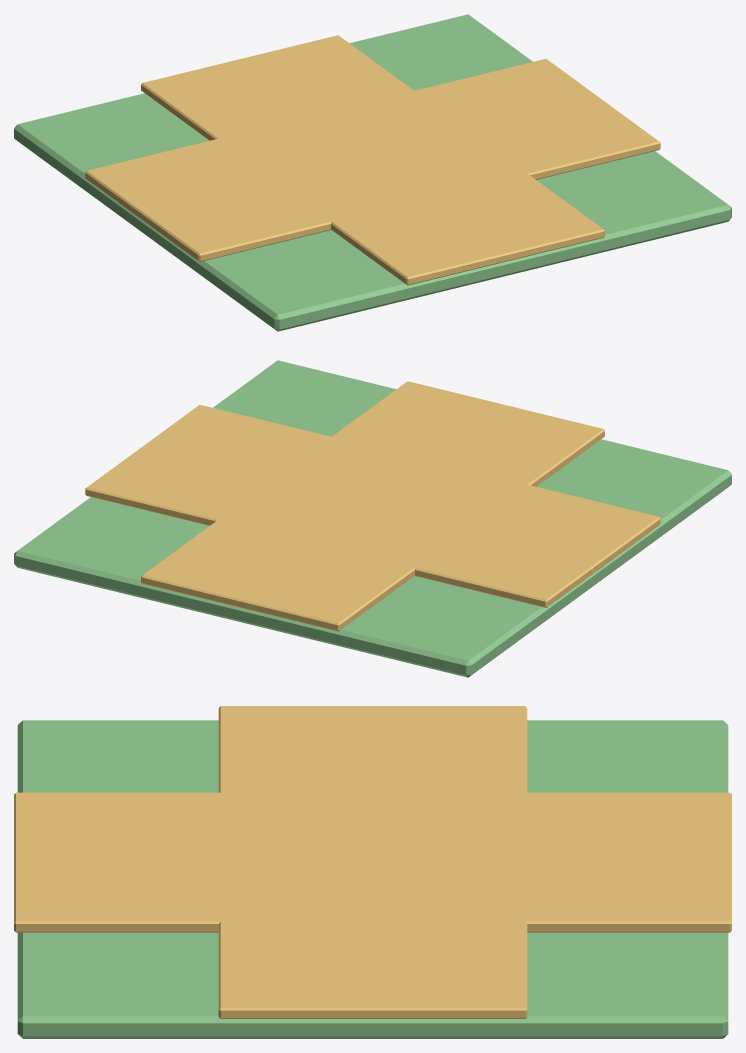
The model's file is ROAD_DIRT_1x1_CROSS.glb.
3 views of the same model, one above another, from view 1: azimuth 30°, elevation 25°; view 2: azimuth 150°, elevation 25°; view 3: azimuth 270°, elevation 25° (orthographic). The views are drawn at different scales.
Visible parts, largest first — view 1: ROAD_DIRT_1x1_CROSS_Visual; view 2: ROAD_DIRT_1x1_CROSS_Visual; view 3: ROAD_DIRT_1x1_CROSS_Visual.
Boxes of the visible parts, <box> form: ROAD_DIRT_1x1_CROSS_Visual: <box>14,14,731,331</box>; ROAD_DIRT_1x1_CROSS_Visual: <box>14,360,731,677</box>; ROAD_DIRT_1x1_CROSS_Visual: <box>14,706,731,1038</box>.
Size of what is drawn, in the model's own units: 2 by 0.1045 by 2.
